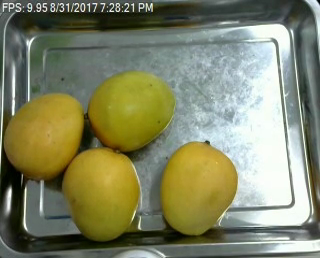Mango: (161, 142, 239, 233), (64, 149, 140, 241), (4, 93, 86, 177), (87, 72, 174, 151)
